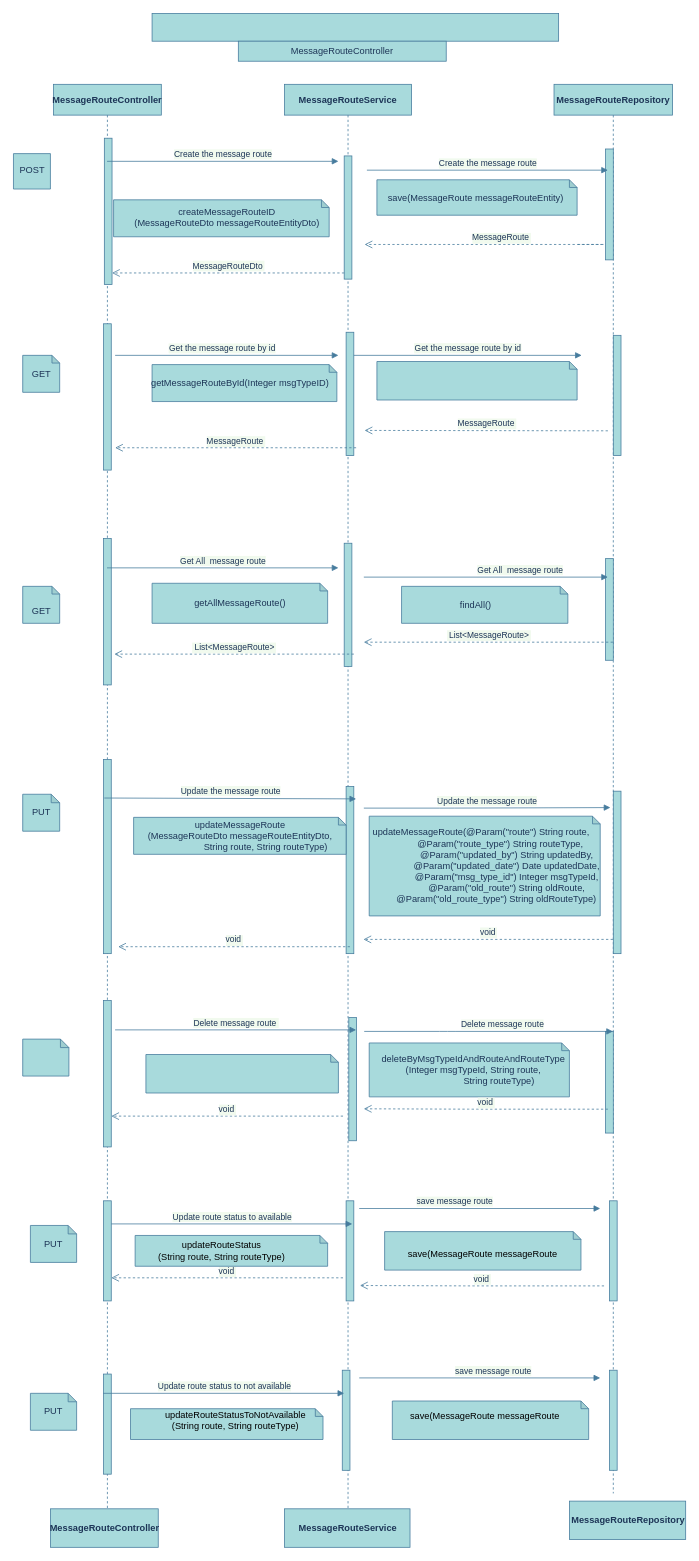
This 699x1561 diagram has some shape labels left out. Here are the shapes that lost their labels. From the top down, the centre of each, then its label:
At (x=355, y=27): "RouteConfig Api".
At (x=476, y=380): "findByMsgTypeId(Integer msgTypeId)".
At (x=45, y=1057): "DELETE".
At (x=241, y=1073): "deleteMessageRoute (int msgTypeId, String route, String routeType)".
